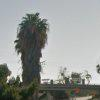Palm tree: (11, 7, 53, 95)
